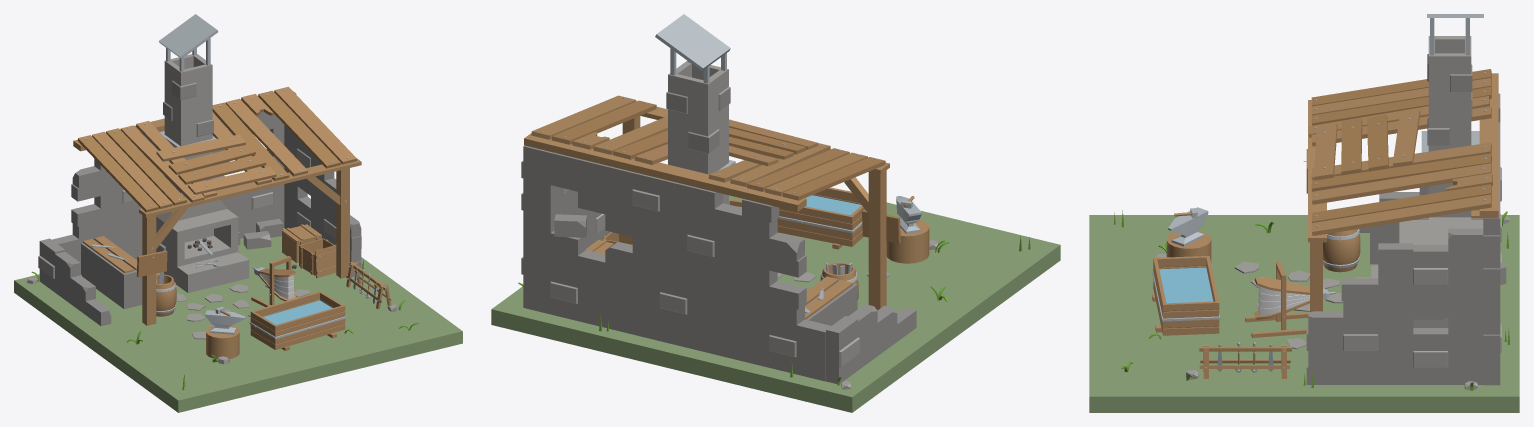
The model's file is Blacksmith.fbx.
3 views of the same model, side by side, from view 1: azimuth 30°, elevation 25°; view 2: azimuth 150°, elevation 25°; view 3: azimuth 270°, elevation 25° (orthographic). The views are drawn at different scales.
Visible parts, largest first — view 1: Box003, Box021, Box017, Box039, Box020, Box037, Box018, Box016, Box105, Box103, Box106, Box043 (+28 smaller); view 2: Box017, Box003, Box021, Box037, Box040, Box039, Box019, Box031, Box105, Box045, Box106, Cylinder019 (+15 smaller); view 3: Box003, Box020, Box021, Box039, Box017, Box106, Box103, Box102, Box105, Box178, Box040, Box217 (+19 smaller).
Boxes of the visible parts, box(x1,y1,x2,y2) form: Box003: box(14, 228, 462, 412); Box021: box(156, 54, 249, 292); Box017: box(52, 112, 284, 273); Box039: box(249, 291, 346, 350); Box020: box(284, 125, 361, 277); Box037: box(38, 238, 111, 326); Box018: box(81, 240, 142, 309); Box016: box(139, 158, 361, 217); Box105: box(258, 90, 340, 168); Box103: box(225, 98, 307, 176); Box106: box(274, 86, 356, 164); Box043: box(336, 168, 349, 278); Box017: box(521, 145, 830, 381); Box003: box(491, 195, 1060, 412); Box021: box(666, 60, 730, 204); Box037: box(826, 304, 916, 383); Box040: box(524, 133, 806, 211); Box039: box(777, 187, 865, 249); Box019: box(868, 170, 886, 310); Box031: box(655, 14, 730, 70); Box105: box(551, 100, 656, 144); Box045: box(782, 157, 885, 200); Box106: box(531, 95, 636, 139); Cylinder019: box(886, 218, 929, 263); Box003: box(1089, 215, 1519, 412); Box020: box(1306, 228, 1483, 384); Box021: box(1371, 36, 1483, 327); Box039: box(1152, 256, 1220, 335); Box017: box(1483, 93, 1501, 385); Box106: box(1311, 194, 1491, 235); Box103: box(1311, 163, 1491, 204); Box102: box(1311, 153, 1491, 191); Box105: box(1311, 184, 1491, 222); Box178: box(1254, 277, 1335, 319); Box040: box(1479, 73, 1498, 218); Box217: box(1199, 344, 1291, 378).
Size of the model in its own units: 360 by 300 by 360.
